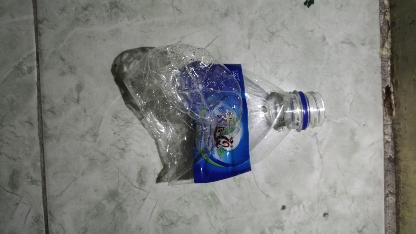Plastic Bottle: (121, 44, 325, 186)
